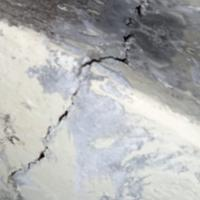crack: (7, 2, 148, 182)
